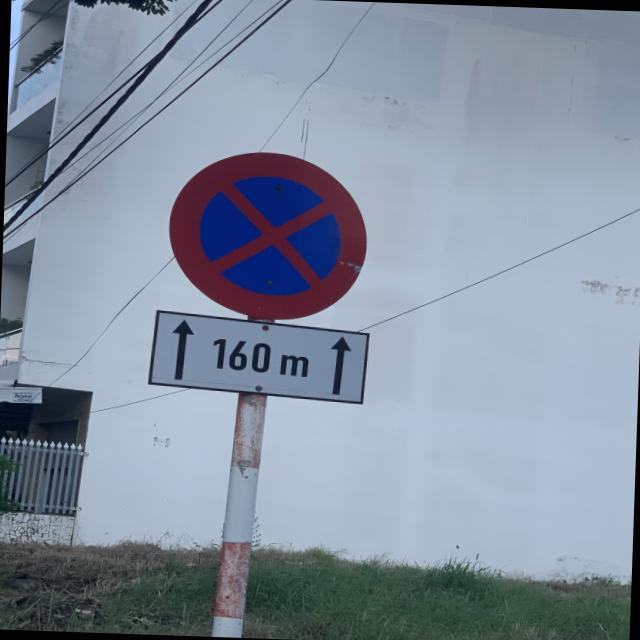Cam_Dung_Va_Dau_Xe: (163, 147, 373, 323)
